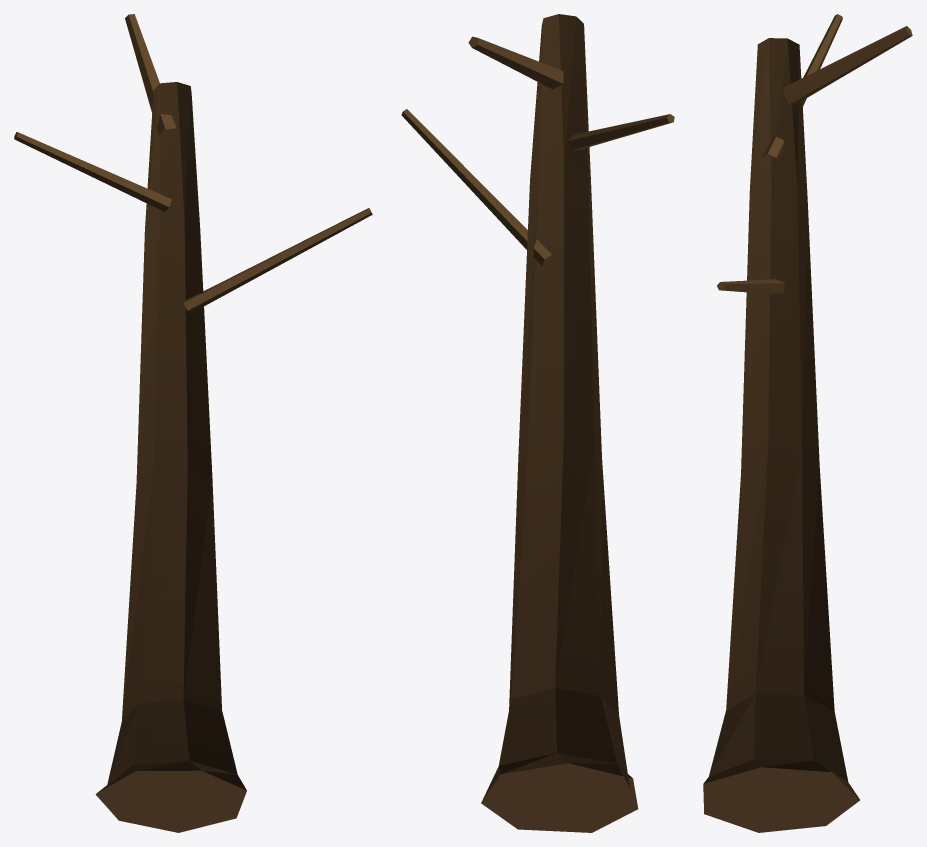
File: tronco.glb
3 views of the same model, side by side, from view 1: azimuth 30°, elevation 25°; view 2: azimuth 150°, elevation 25°; view 3: azimuth 270°, elevation 25° (orthographic). The views are drawn at different scales.
Parts seen in each view (by area): view 1: tronco; view 2: tronco; view 3: tronco.
Part boxes in pixels (<box>): tronco: <box>14,14,372,832</box>; tronco: <box>401,14,674,832</box>; tronco: <box>703,14,912,832</box>.
Size of the model in its own units: 2.01 by 4.67 by 1.13.
